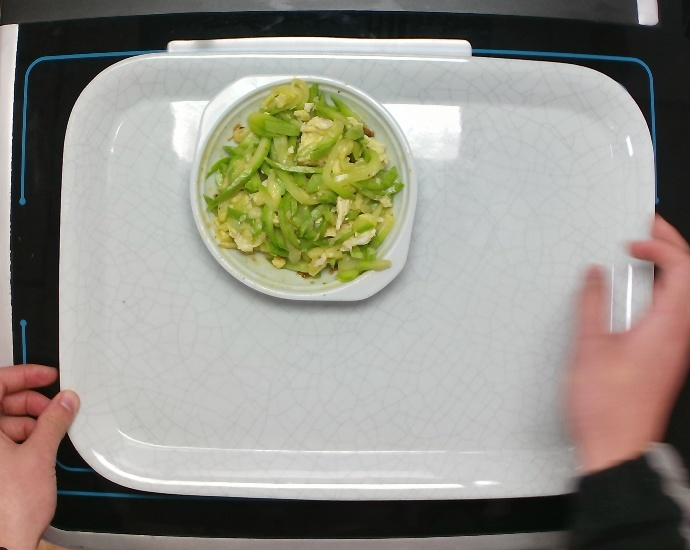JYsf-Shuang_Er_Pan: (183, 69, 423, 309)
